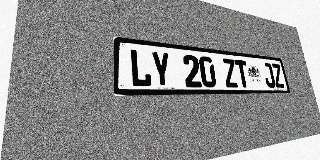0: (198, 56, 217, 87)
2: (182, 54, 202, 87)
J: (262, 62, 276, 88)
L: (129, 49, 152, 87)
T: (234, 60, 250, 88)
Y: (150, 51, 172, 87)
Z: (222, 58, 239, 87), (271, 63, 285, 88)
